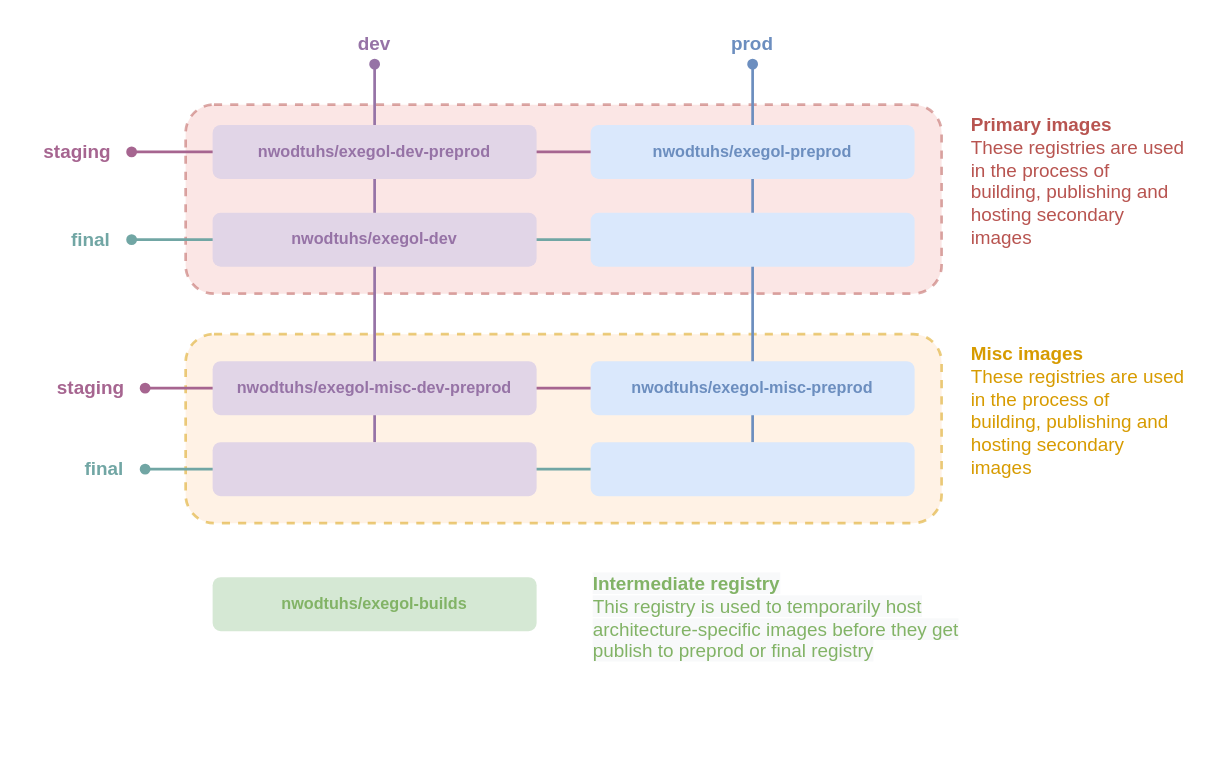
Image size: 1207x775. Some labels were removed from this diagram. The shapes that lost their labels are listed below. From the top down, each one's box as (x1, y1, x2, y2) in pixels, then its label:
(590, 212, 914, 266): nwodtuhs/exegol
(212, 441, 536, 495): nwodtuhs/exegol-misc-dev
(590, 441, 914, 495): nwodtuhs/exegol-misc
